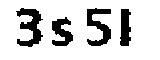3: (10, 6, 44, 52)
5: (82, 4, 116, 48)
I: (121, 4, 134, 51)
s: (48, 16, 77, 50)
